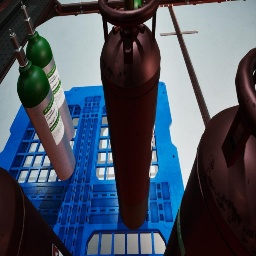0: (9, 29, 76, 181), (21, 2, 75, 142), (124, 0, 141, 9)
NitrogenTank ,: (163, 47, 256, 256), (98, 0, 160, 230), (0, 167, 73, 256)
